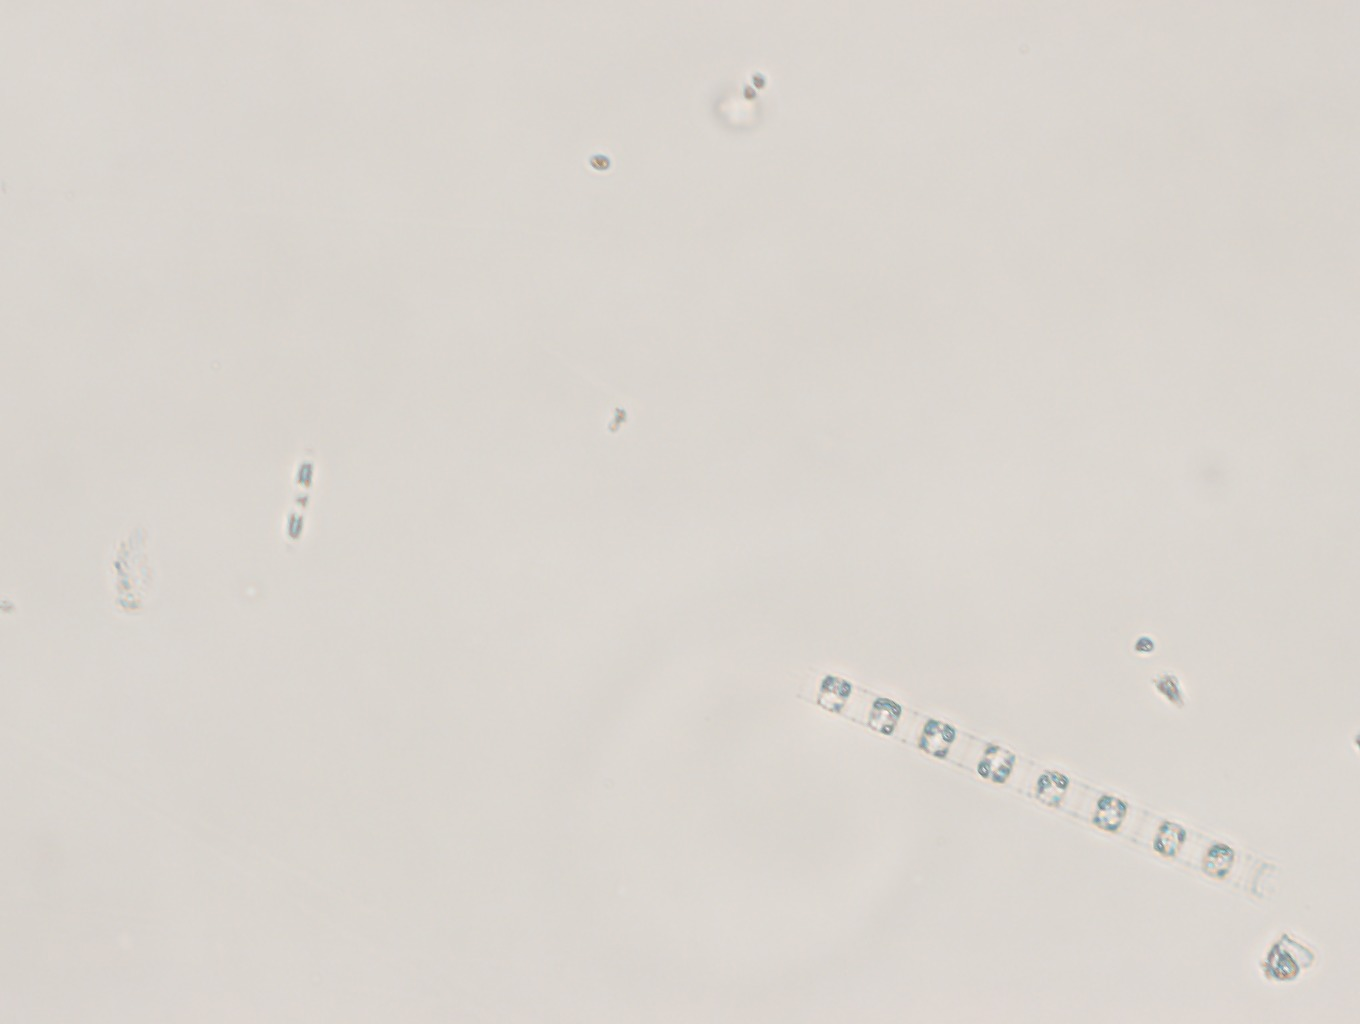skeletonema: (806, 667, 1303, 927)
